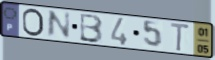4: (110, 16, 130, 47)
5: (141, 19, 165, 51)
B: (78, 13, 105, 45)
N: (45, 9, 72, 40)
O: (21, 7, 46, 38)
T: (169, 21, 192, 53)
